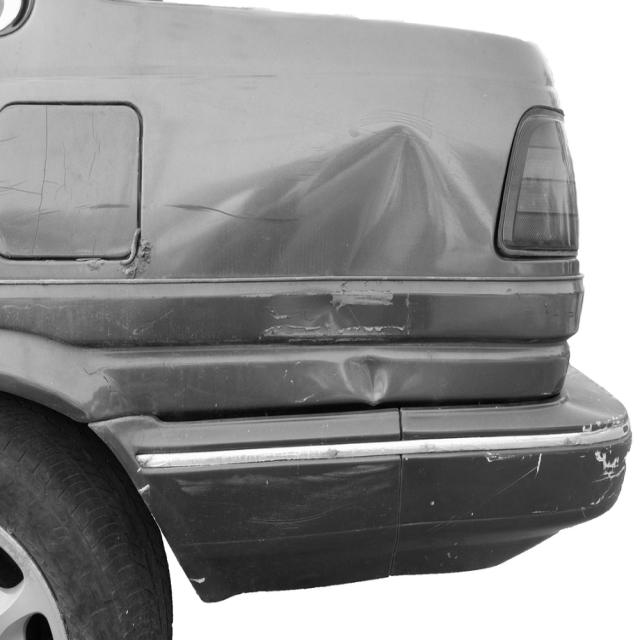dent: (160, 127, 495, 278), (342, 354, 390, 402)
scratch: (581, 411, 633, 483)
